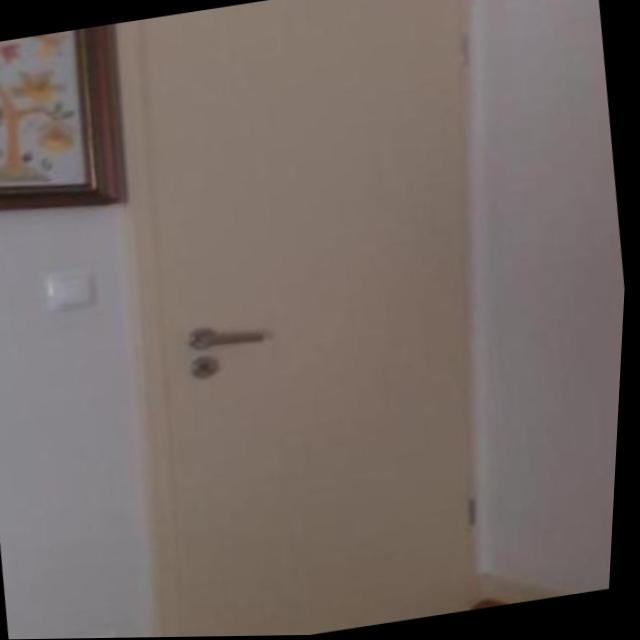door_handle: (181, 316, 285, 364)
